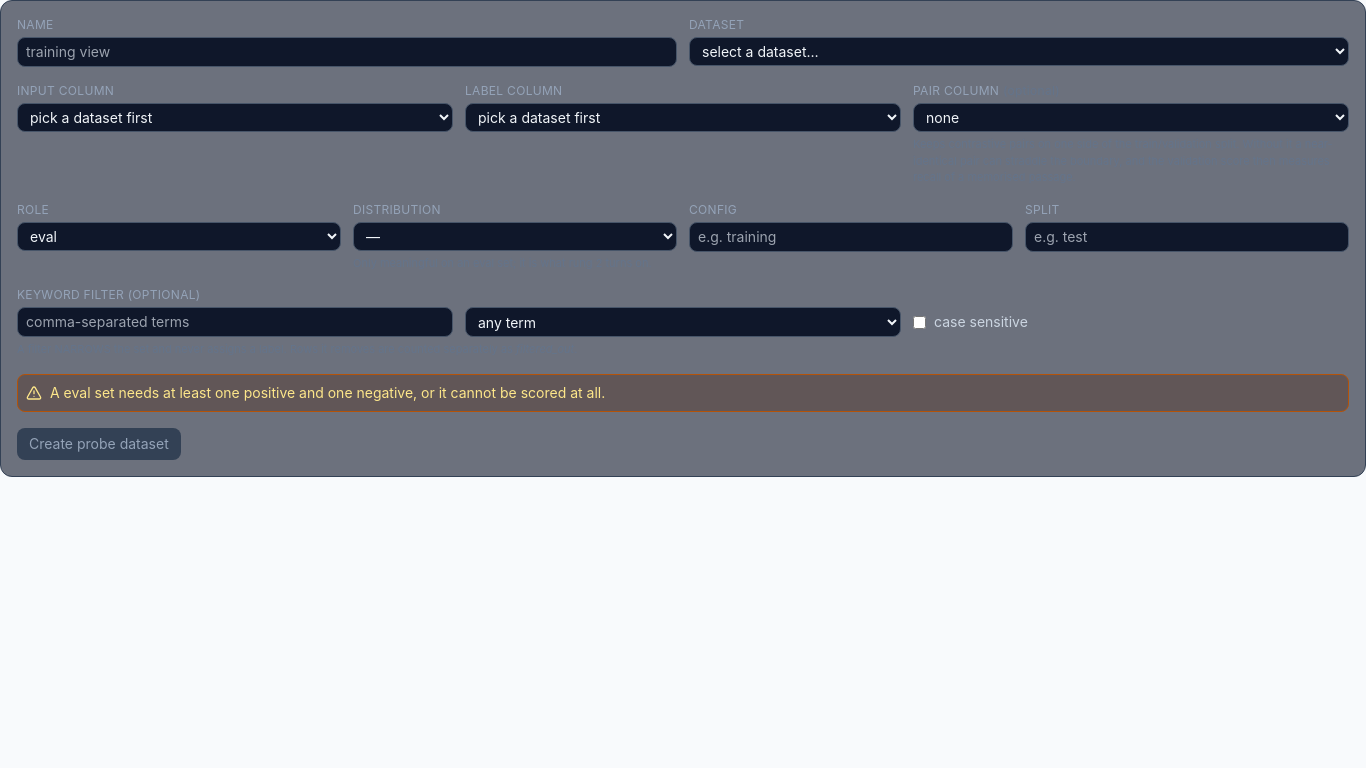
Test: ProbeDatasetForm reads its choices from the data › lists every distinct label value, including the third class
Select "models-under-pressure (training)" in the dropdown labelled "Dataset" at (1019, 52), box [689,37,1349,66]
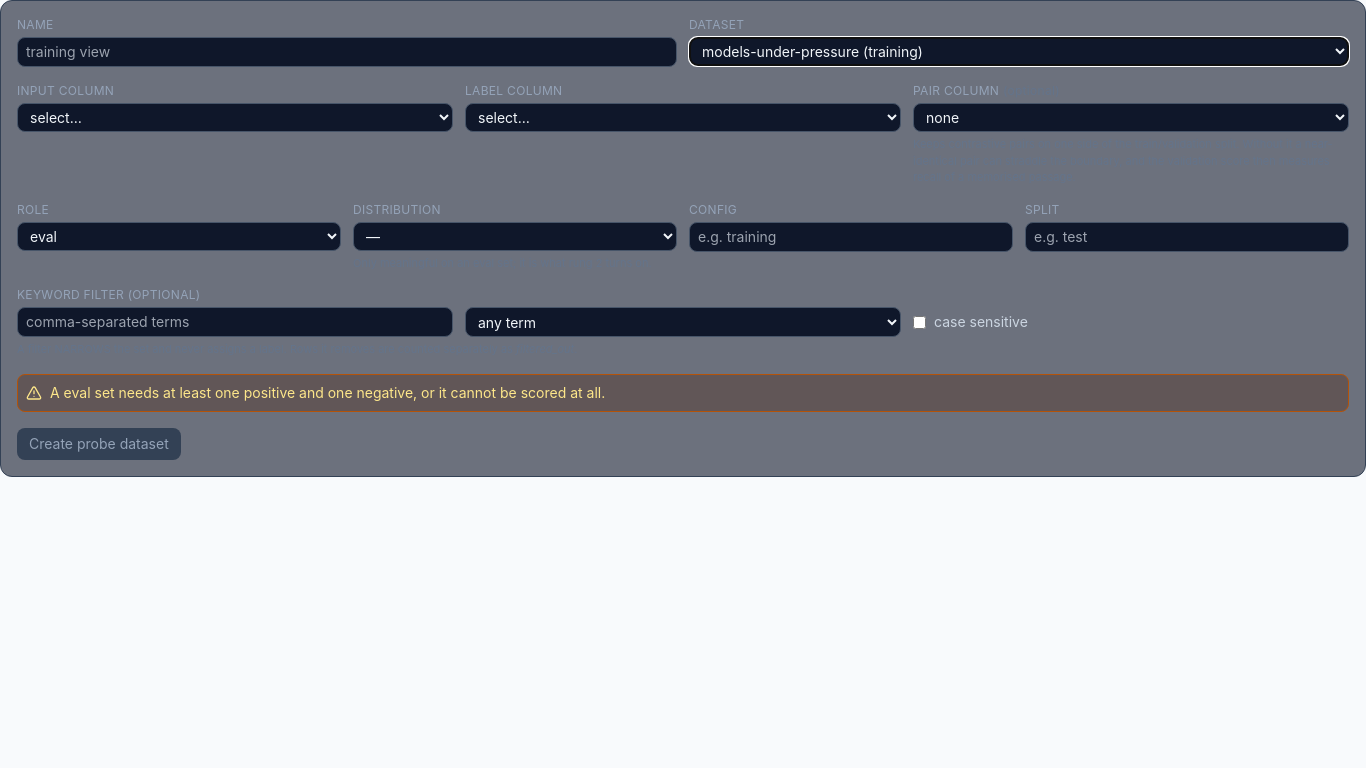
Select "stakes" in the dropdown labelled "Label column" at (683, 118), box [465,103,901,132]
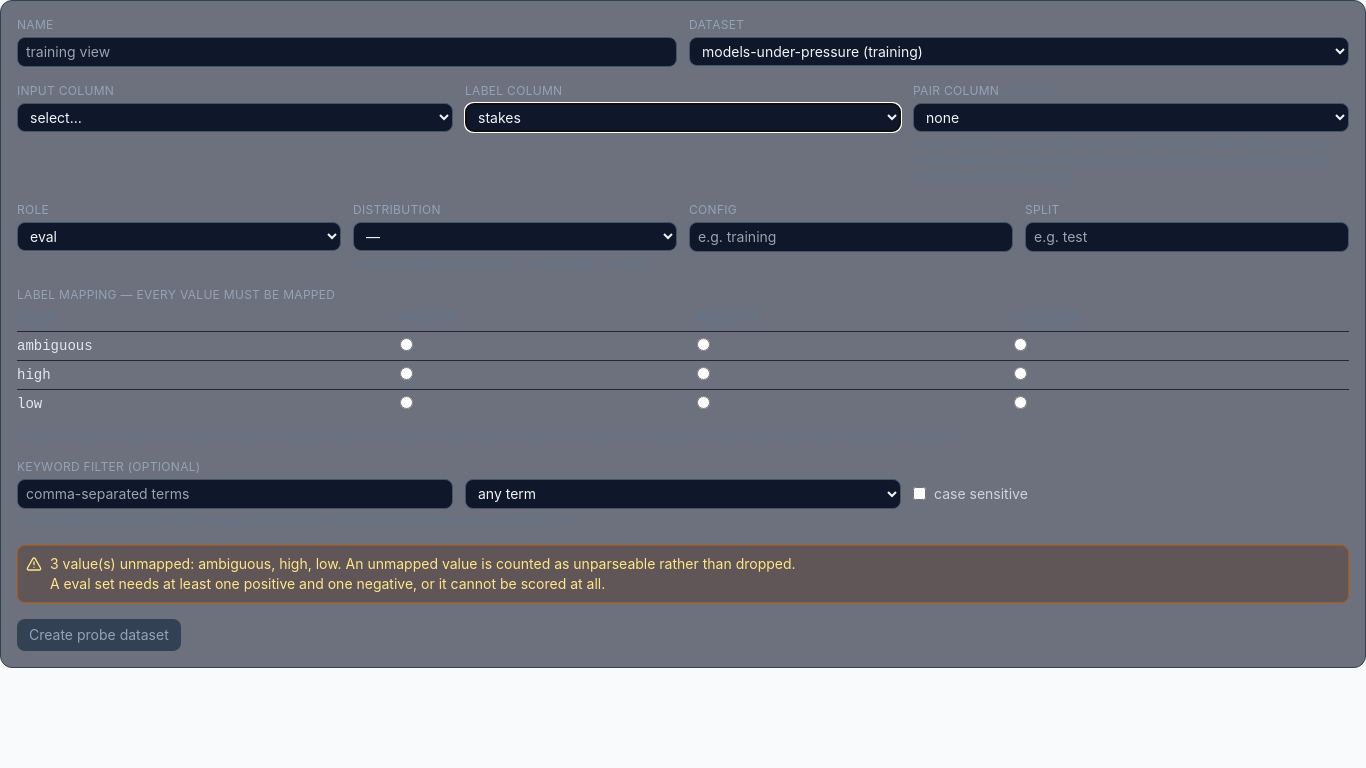
expect the radio button named "high → positive" is shown: met, box [400,367,413,380]
expect the radio button named "low → negative" is shown: met, box [697,396,710,409]
expect the radio button named "ambiguous → excluded" is shown: met, box [1014,338,1027,351]
